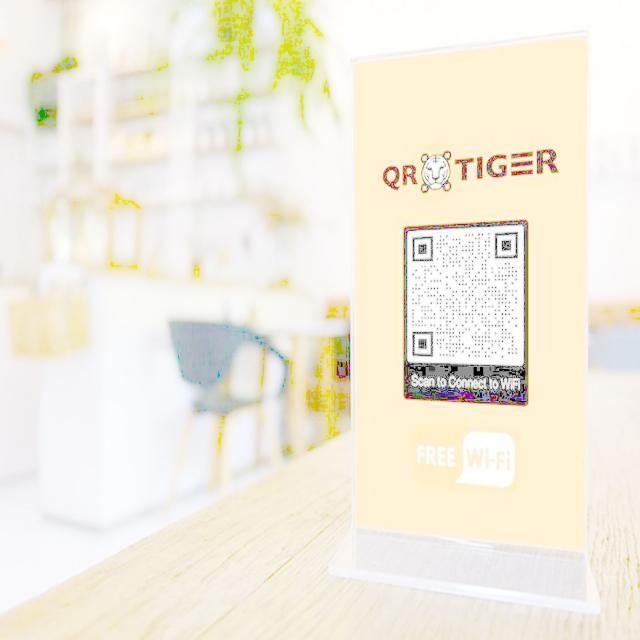qr_code: (412, 233, 519, 359)
